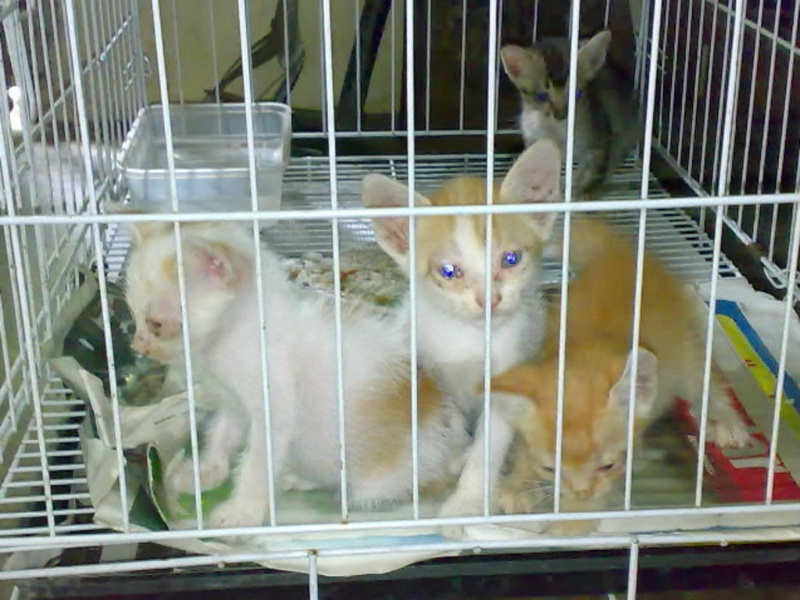cat: (115, 206, 417, 518), (355, 139, 567, 401), (469, 343, 684, 524), (488, 24, 664, 192)
